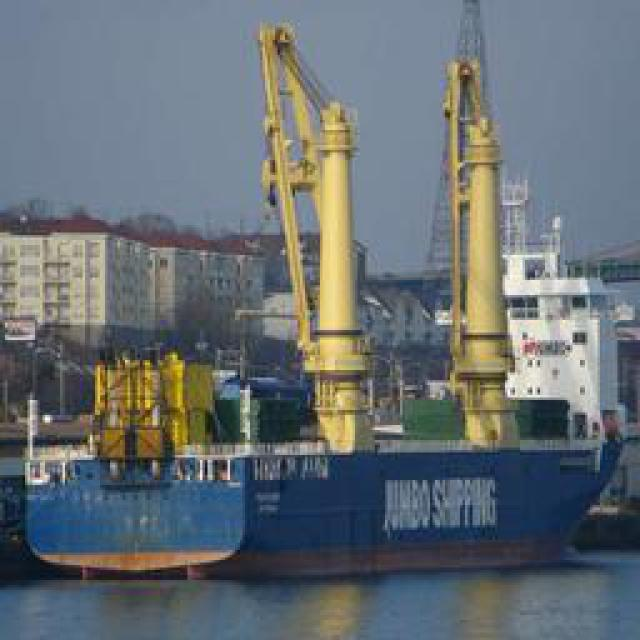Ship: (13, 182, 631, 580)
